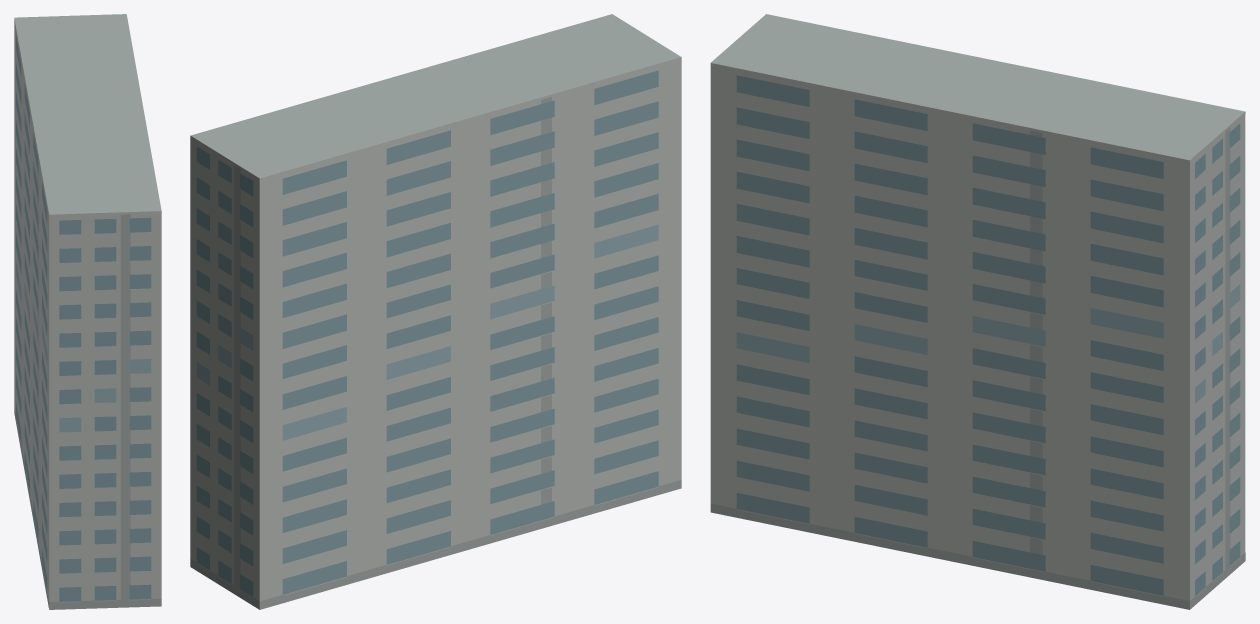
File: residential-0df3a7ac-0649-4c42-b2f1-a476e8fc92d9.glb
3 views of the same model, side by side, from view 1: azimuth 30°, elevation 25°; view 2: azimuth 150°, elevation 25°; view 3: azimuth 270°, elevation 25° (orthographic). The views are drawn at different scales.
Visible parts, largest first — view 1: residential-0df3a7ac-0649-4c42-b2f1-a476e8fc92d9.tmp; view 2: residential-0df3a7ac-0649-4c42-b2f1-a476e8fc92d9.tmp; view 3: residential-0df3a7ac-0649-4c42-b2f1-a476e8fc92d9.tmp.
Part boxes in pixels (left/top/right/bottom): residential-0df3a7ac-0649-4c42-b2f1-a476e8fc92d9.tmp: left=14, top=14, right=161, bottom=609; residential-0df3a7ac-0649-4c42-b2f1-a476e8fc92d9.tmp: left=190, top=14, right=681, bottom=609; residential-0df3a7ac-0649-4c42-b2f1-a476e8fc92d9.tmp: left=710, top=14, right=1245, bottom=609.
Bounding box in the file's own units: 29.82 × 42.7 × 46.05.
